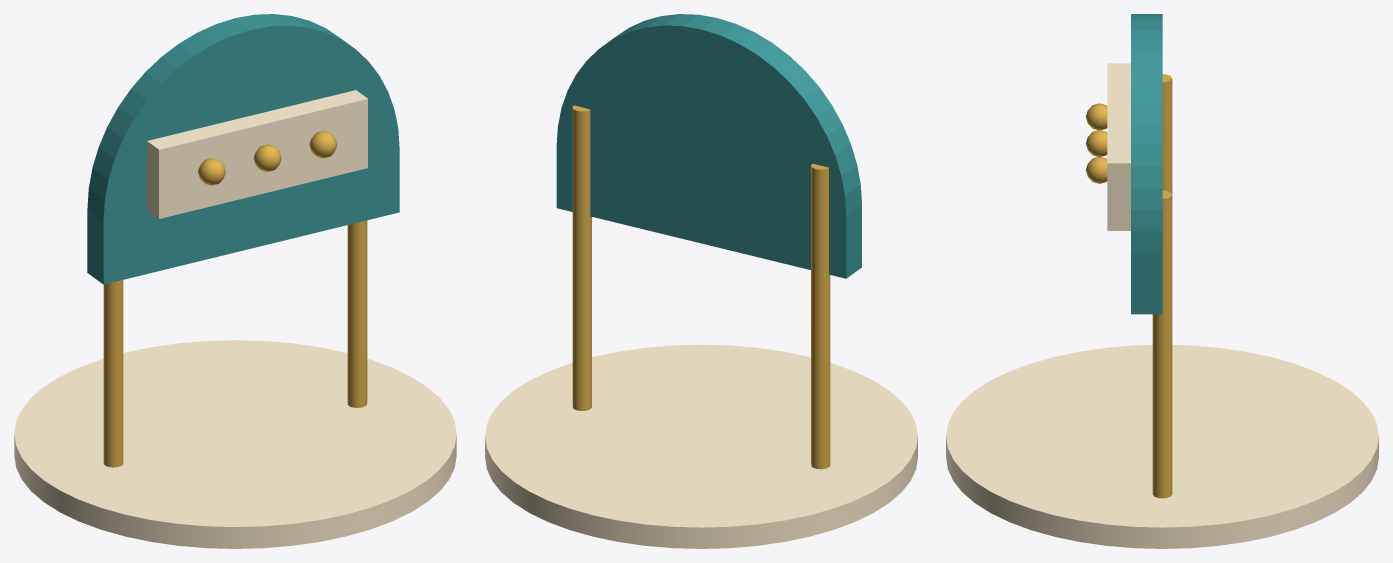
File: zoo-gate.glb
3 renders of one model, left to right at view 1: azimuth 30°, elevation 25°; view 2: azimuth 150°, elevation 25°; view 3: azimuth 270°, elevation 25°, orthographic. The views are drawn at different scales.
Bounding box in the file's own units: 1.1 × 1.2 × 1.1.
